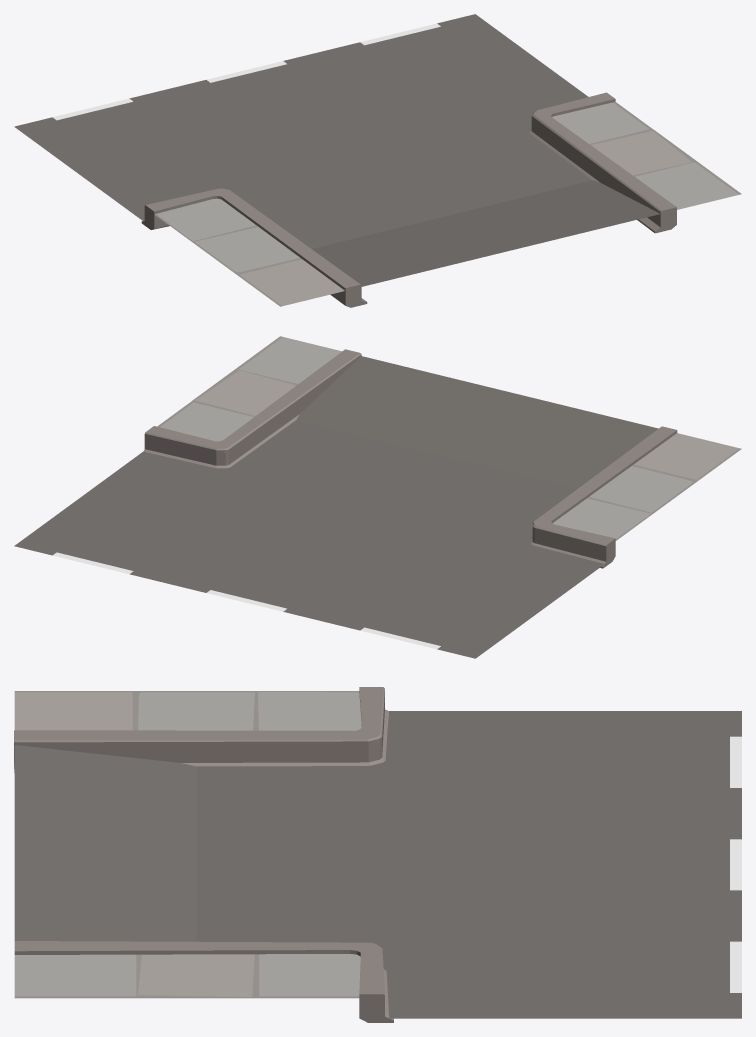
File: Road_20.fbx
The picture shows the model from 3 angles, top to bottom: view 1: azimuth 30°, elevation 25°; view 2: azimuth 150°, elevation 25°; view 3: azimuth 270°, elevation 25°; orthographic projection. The views are drawn at different scales.
Parts seen in each view (by area): view 1: Road_20; view 2: Road_20; view 3: Road_20.
Part boxes in pixels (bbox=[...]): Road_20: bbox=[14, 14, 741, 307]; Road_20: bbox=[14, 336, 741, 658]; Road_20: bbox=[14, 687, 741, 1022].
Bounding box in the file's own units: 12.01 × 0.5208 × 12.01.
